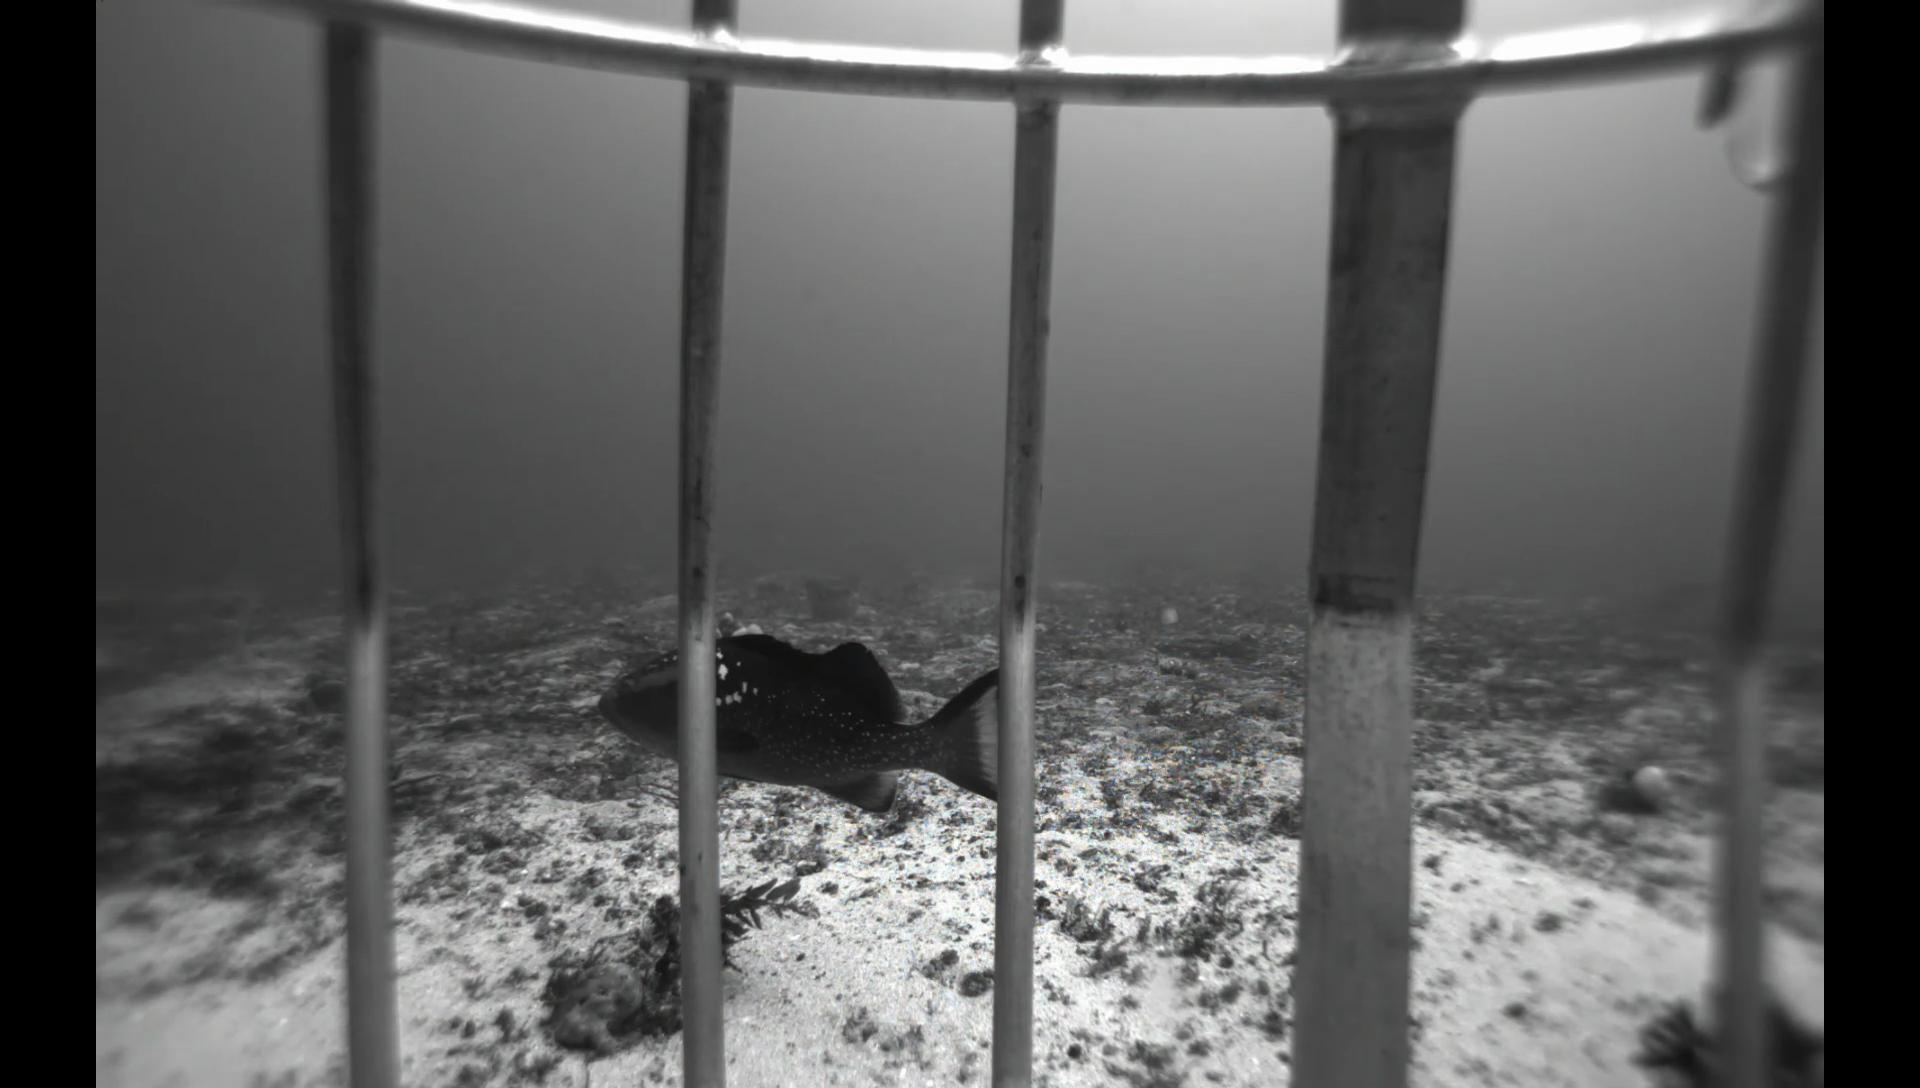CHAETODONOCELLATUS-170260307: (1225, 589, 1273, 620), (1145, 599, 1184, 629)
EPINEPHELUSMORIO-170021211: (579, 621, 1001, 826)
PRISTIGENYSALTA-170050401: (295, 677, 345, 720)
